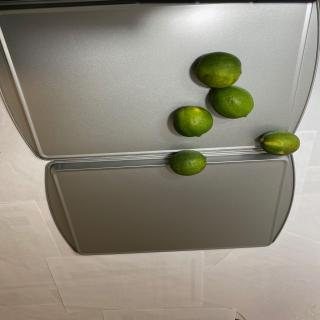Apple: (260, 130, 300, 156), (169, 150, 207, 176)
Lemon: (195, 52, 242, 88), (210, 85, 254, 119), (173, 106, 213, 137)
